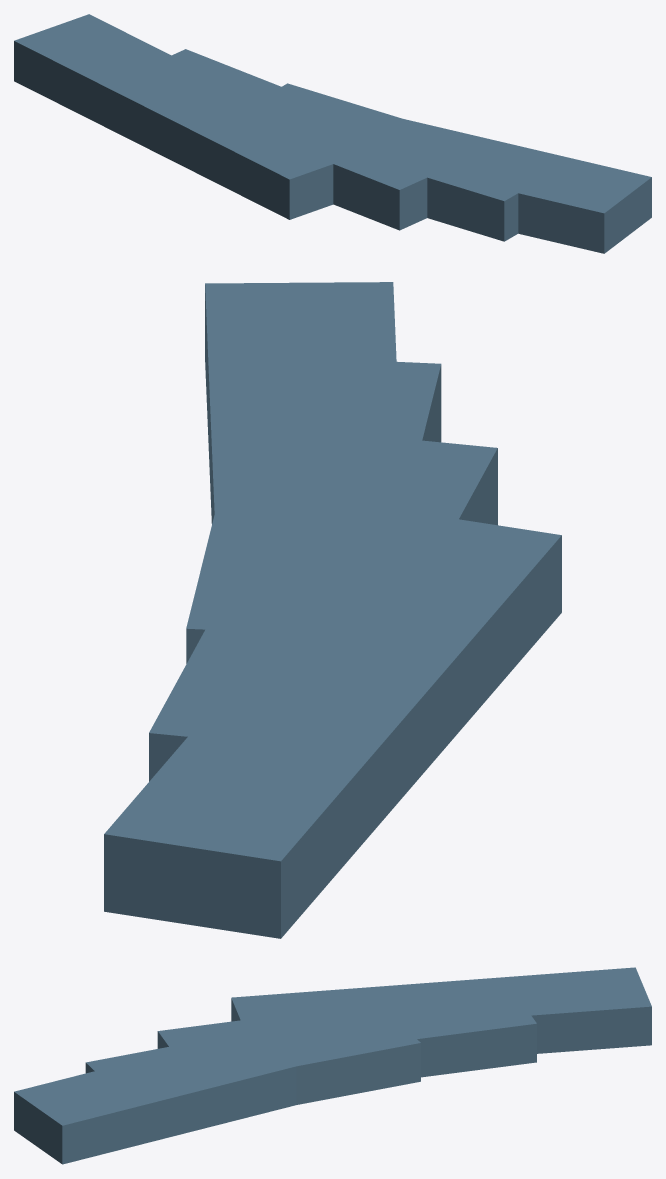
The model's file is hua_wing_blue.glb.
3 views of the same model, one above another, from view 1: azimuth 30°, elevation 25°; view 2: azimuth 150°, elevation 25°; view 3: azimuth 270°, elevation 25° (orthographic). The views are drawn at different scales.
Visible parts, largest first — view 1: world; view 2: world; view 3: world.
Part boxes in pixels (x1,y1,x2,y2): world: (14,14,651,253); world: (104,282,561,938); world: (14,967,651,1164).
Size of the model in its own units: 0.219 by 0.025 by 0.3728.
